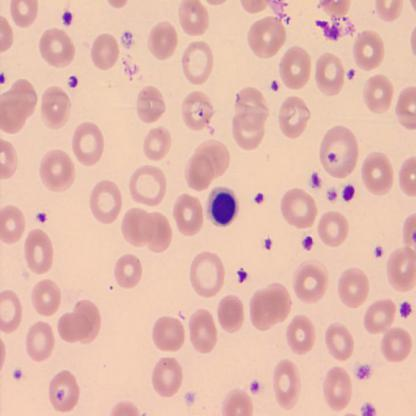NRC: (204, 184, 240, 229)
